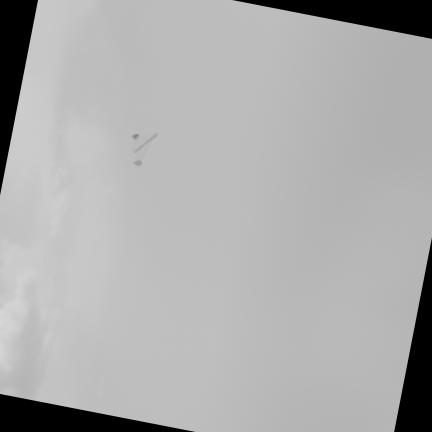Shahed: (132, 133, 157, 165)
